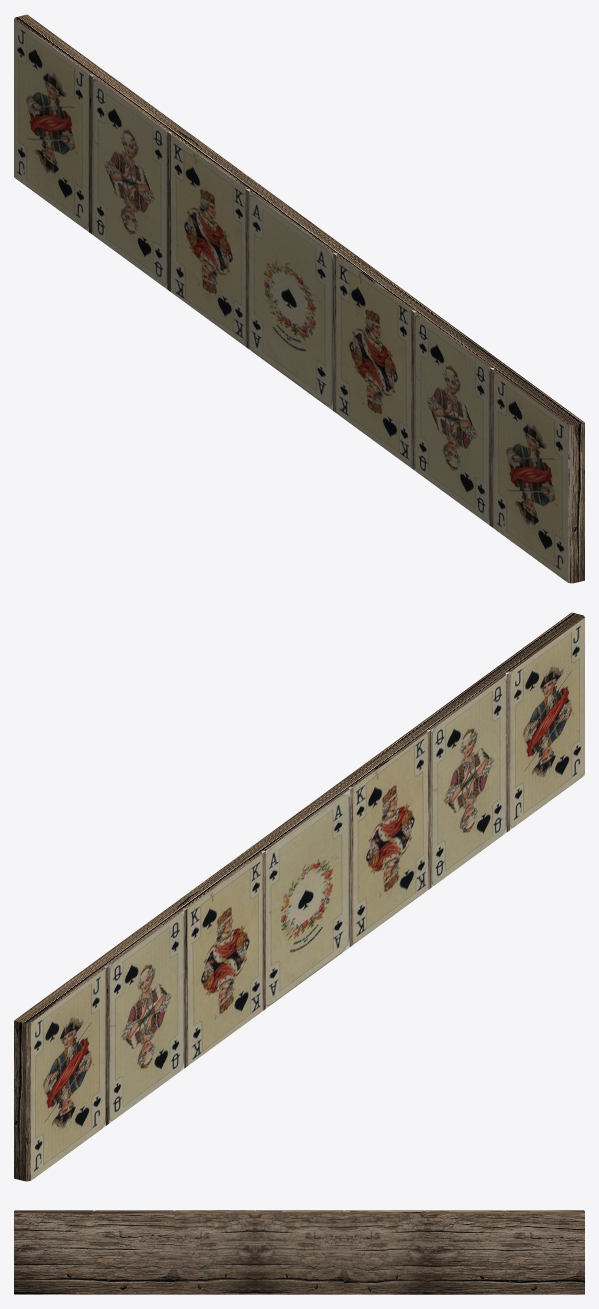
File: CARDwalls.FBX
The picture shows the model from 3 angles, top to bottom: view 1: azimuth 30°, elevation 25°; view 2: azimuth 150°, elevation 25°; view 3: azimuth 270°, elevation 25°; orthographic projection. The views are drawn at different scales.
Visible parts, largest first — view 1: Box001; view 2: Box001; view 3: Box001.
Part boxes in pixels (x1,y1,x2,y2): Box001: (14, 14, 584, 583); Box001: (14, 612, 584, 1181); Box001: (14, 1210, 584, 1294).
Size of the model in its own units: 5 by 50 by 320.
Materials: 1 (1 with a texture image).
